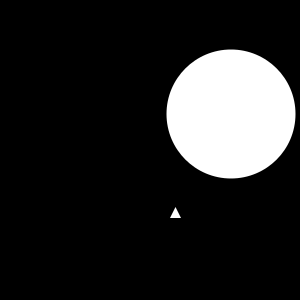rectangle: (167, 50, 296, 178)
triangle: (170, 207, 181, 218)
